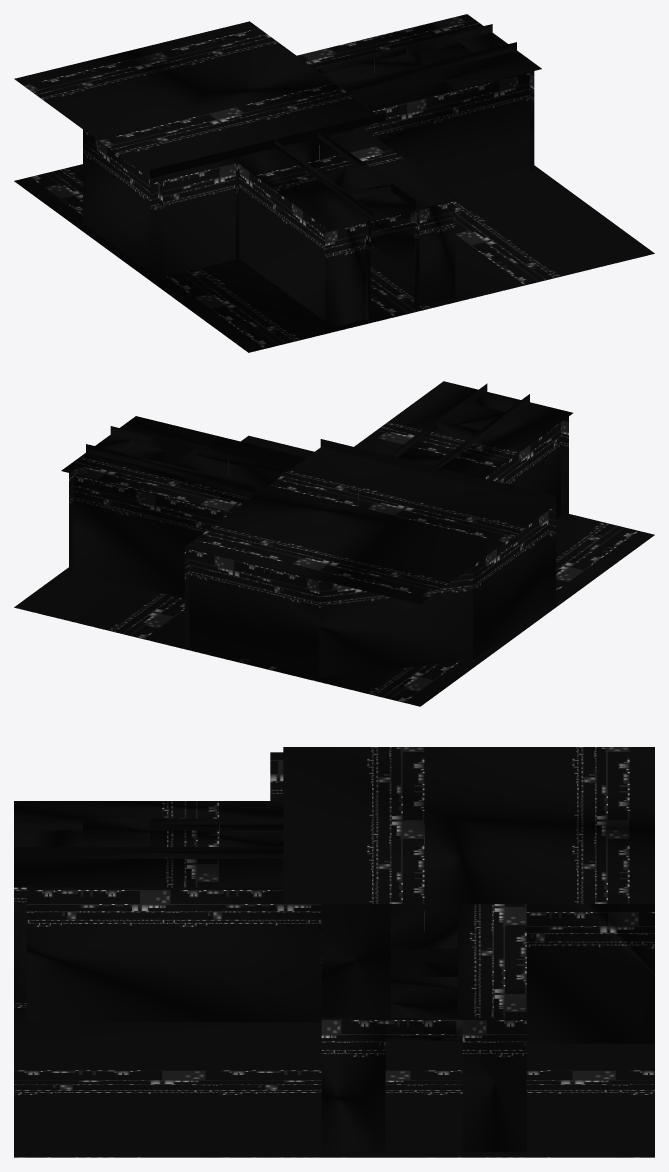
Rendered from room2Cz3_opt.obj.
The picture shows the model from 3 angles, top to bottom: view 1: azimuth 30°, elevation 25°; view 2: azimuth 150°, elevation 25°; view 3: azimuth 270°, elevation 25°; orthographic projection. The views are drawn at different scales.
Size of the model in its own units: 80 by 21.99 by 80.
8 materials, 8 textured.
